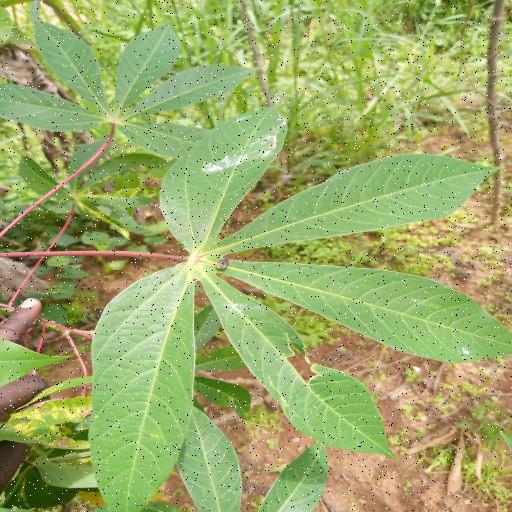Cassava_Healthy: (86, 104, 511, 512), (0, 21, 269, 164)
